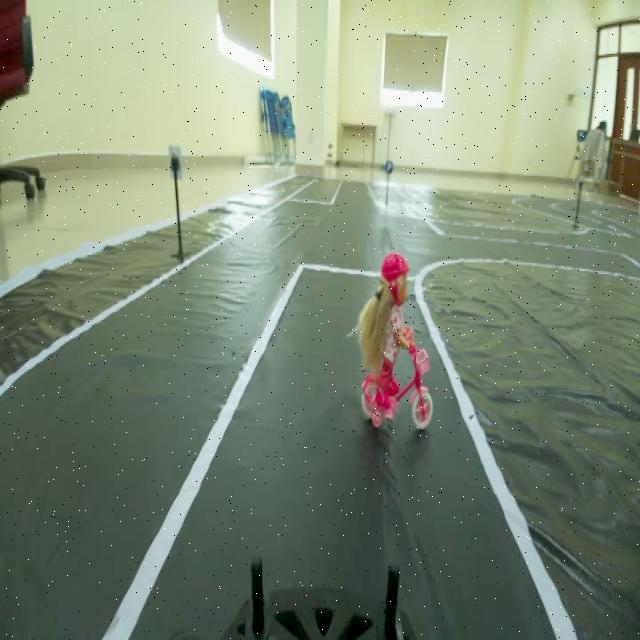pedestrian: (354, 235, 444, 430)
